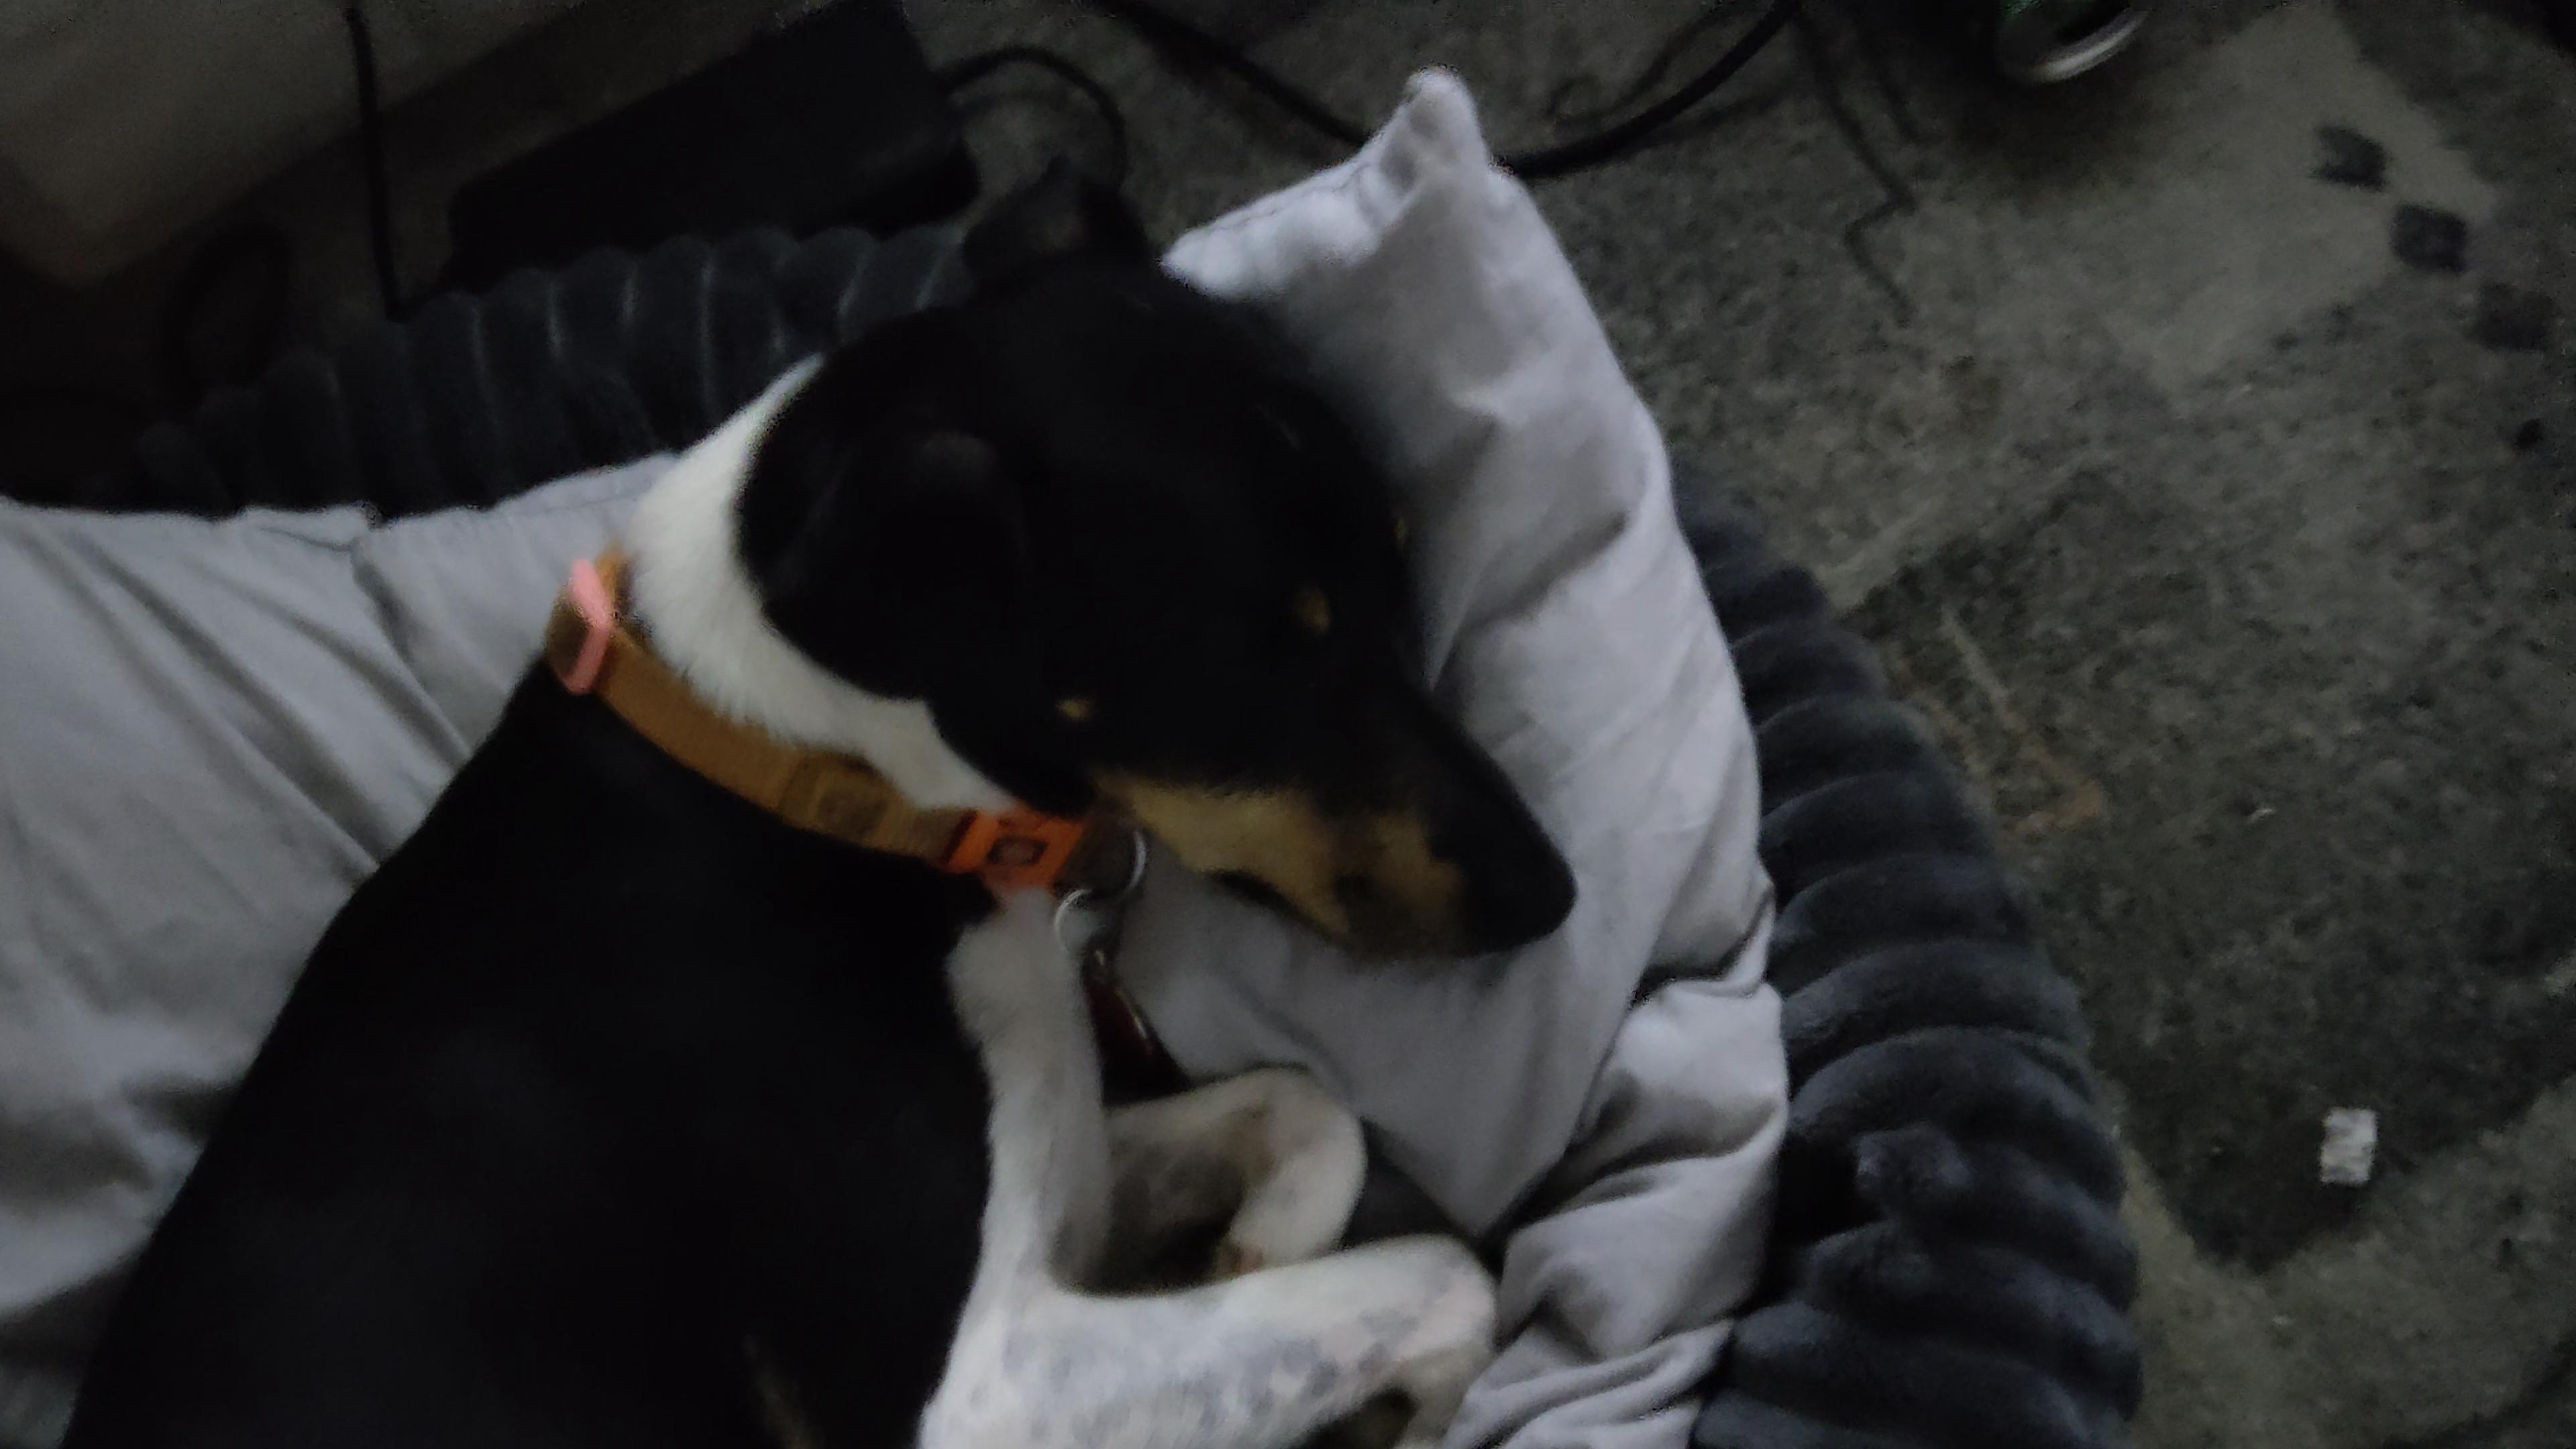Dog: (28, 157, 1582, 1449)
